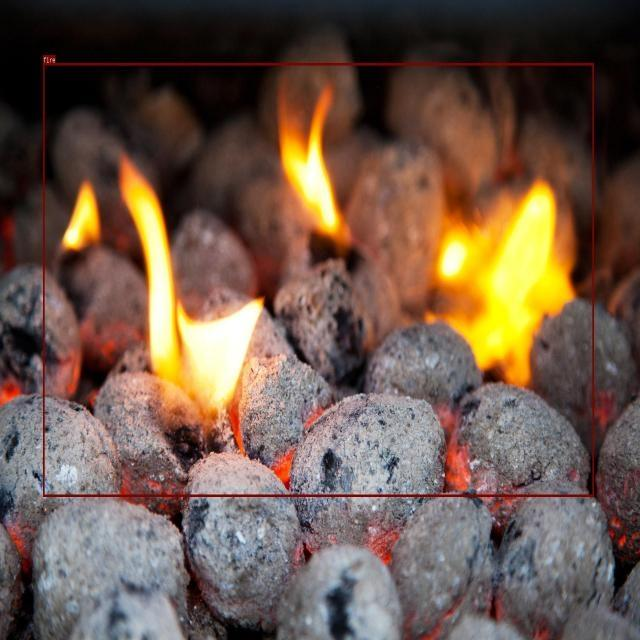fire: (43, 63, 593, 496)
